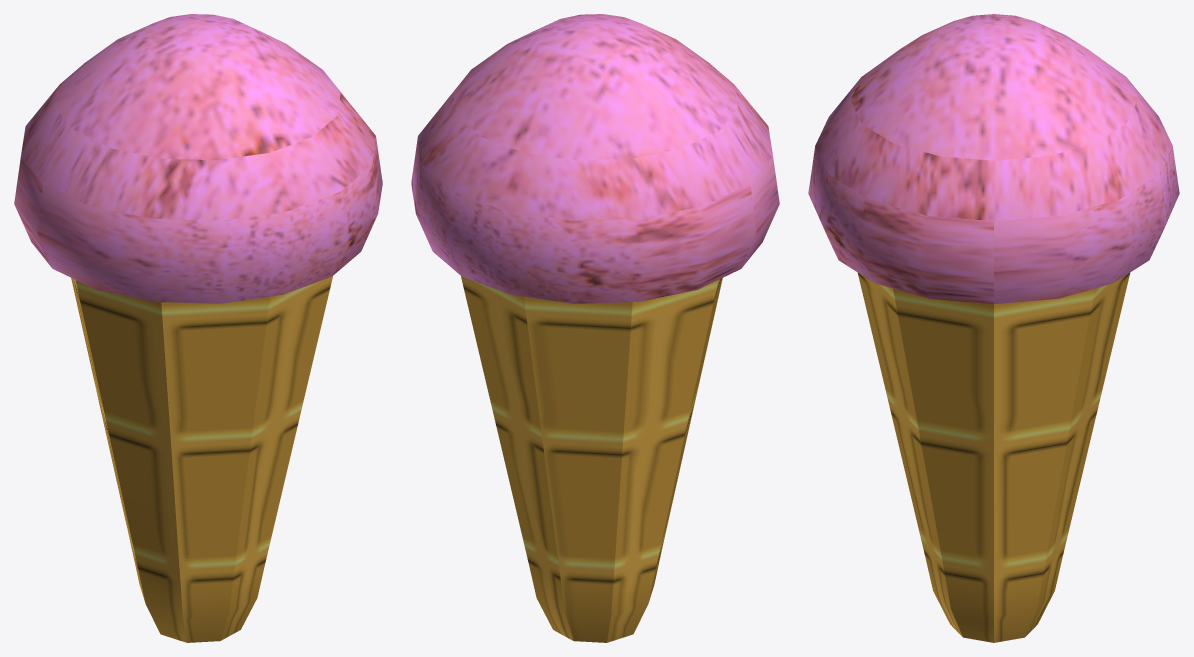
The model's file is IceCreamB.fbx.
3 views of the same model, side by side, from view 1: azimuth 30°, elevation 25°; view 2: azimuth 150°, elevation 25°; view 3: azimuth 270°, elevation 25° (orthographic).
Visible parts, largest first — view 1: IceCreamB, IceCreamCorn_B; view 2: IceCreamB, IceCreamCorn_B; view 3: IceCreamB, IceCreamCorn_B.
Part boxes in pixels (left/top/right/bottom): IceCreamB: left=14, top=14, right=382, bottom=303; IceCreamCorn_B: left=71, top=276, right=332, bottom=642; IceCreamB: left=411, top=14, right=779, bottom=303; IceCreamCorn_B: left=461, top=276, right=722, bottom=642; IceCreamB: left=808, top=14, right=1179, bottom=304; IceCreamCorn_B: left=857, top=273, right=1130, bottom=642.
Size of the model in its own units: 106 by 192 by 106.
